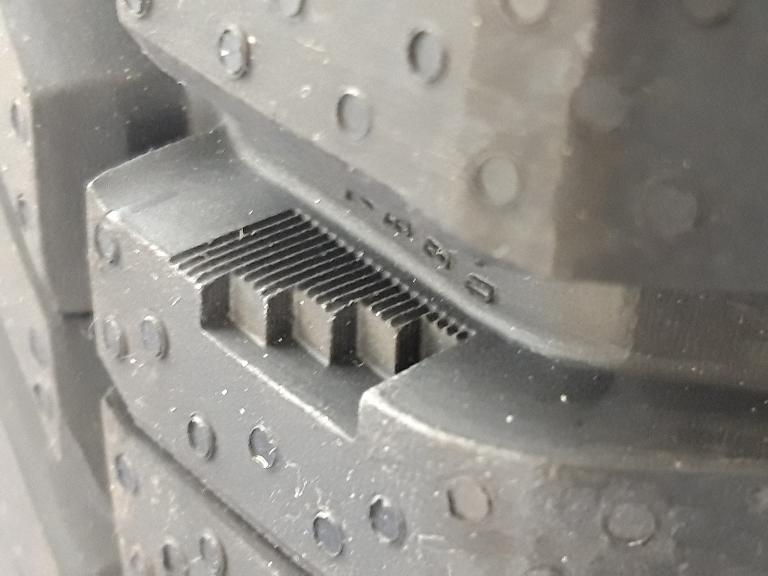temoin:100: (165, 202, 485, 447)
